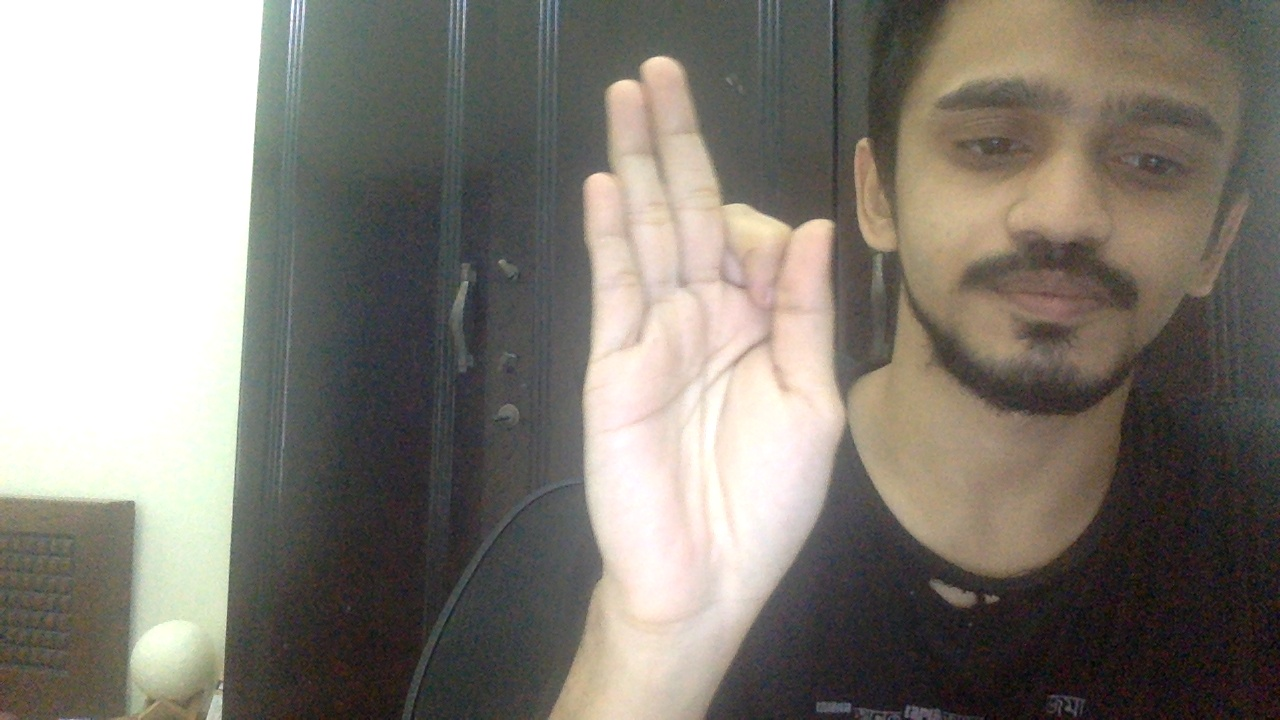perfect: (558, 53, 847, 623)
